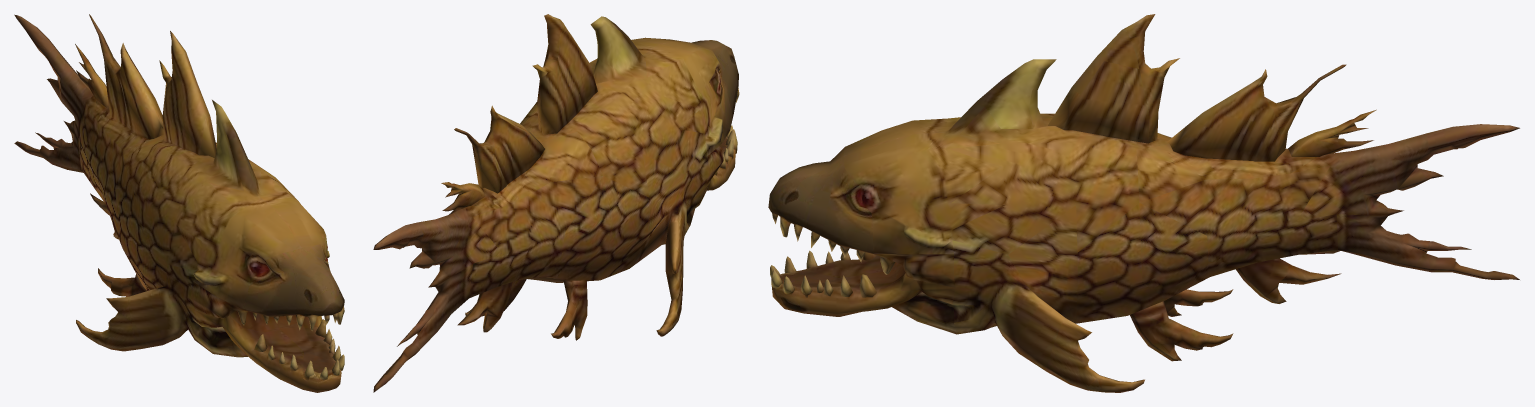
3 views of the same model, side by side, from view 1: azimuth 30°, elevation 25°; view 2: azimuth 150°, elevation 25°; view 3: azimuth 270°, elevation 25° (orthographic). The views are drawn at different scales.
Parts seen in each view (by area): view 1: yuy17; view 2: yuy17; view 3: yuy17.
Boxes of the visible parts, x1,y1,x2,y2 form: yuy17: (14, 14, 344, 392); yuy17: (373, 14, 739, 392); yuy17: (768, 14, 1519, 392).
Bounding box in the file's own units: 35.74 × 47.85 × 99.8.
1 material, 1 textured.
